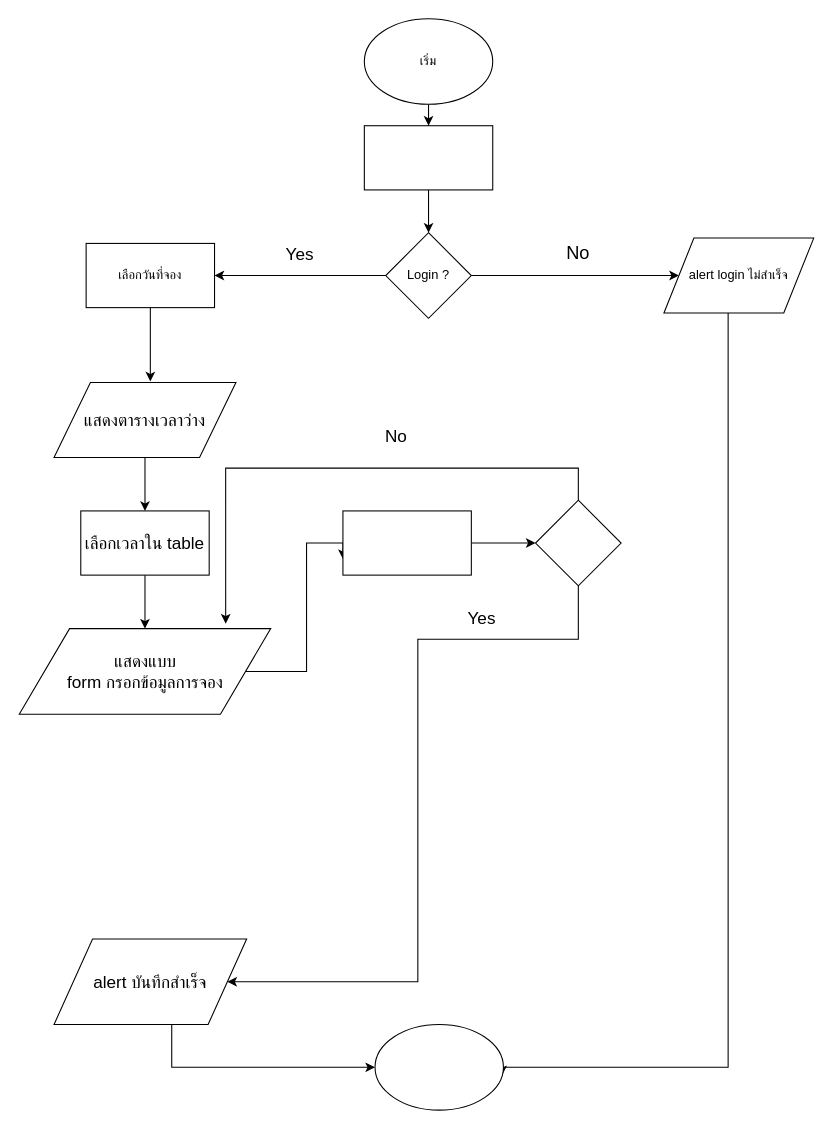
This 832x1129 diagram has some shape labels left out. The shapes that lost their labels are listed below. From the top down, each one's centre as x and y in pixels, then its label:
the point at 428,157: เข้าหน้า BookMeetingRoom
the point at 406,542: กรอกข้อมูลพร้อมกด Submit
the point at 577,542: ข้อมูลถูก?
the point at 438,1066: จบ
